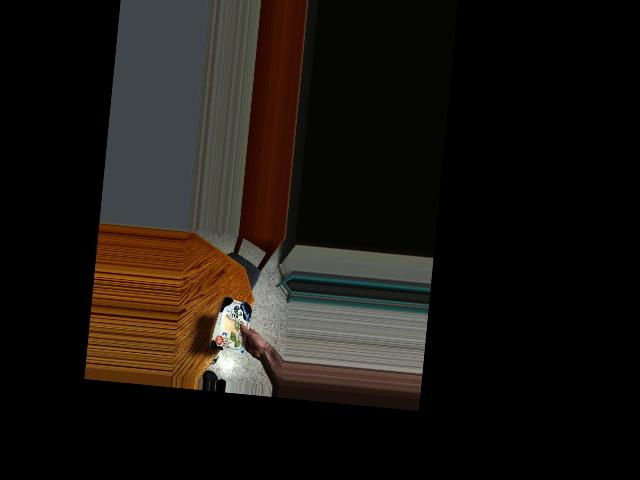cheese: (211, 299, 259, 347)
